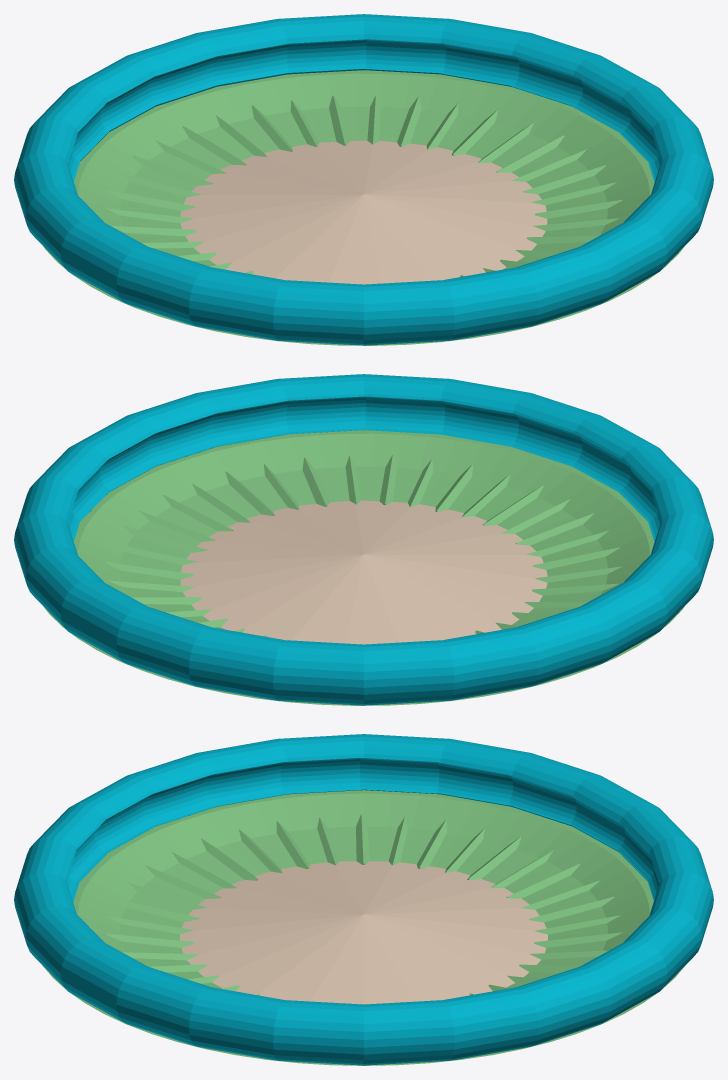
Rendered from roulette.glb.
The picture shows the model from 3 angles, top to bottom: view 1: azimuth 30°, elevation 25°; view 2: azimuth 150°, elevation 25°; view 3: azimuth 270°, elevation 25°; orthographic projection.
Visible parts, largest first — view 1: Mesh_Mesh_head_geo.001_lambert2SG.001; view 2: Mesh_Mesh_head_geo.001_lambert2SG.001; view 3: Mesh_Mesh_head_geo.001_lambert2SG.001.
Part boxes in pixels (left/top/right/bottom): Mesh_Mesh_head_geo.001_lambert2SG.001: left=14, top=14, right=713, bottom=345; Mesh_Mesh_head_geo.001_lambert2SG.001: left=14, top=374, right=713, bottom=705; Mesh_Mesh_head_geo.001_lambert2SG.001: left=14, top=734, right=713, bottom=1065.
Bounding box in the file's own units: 52 × 8.5 × 52.
